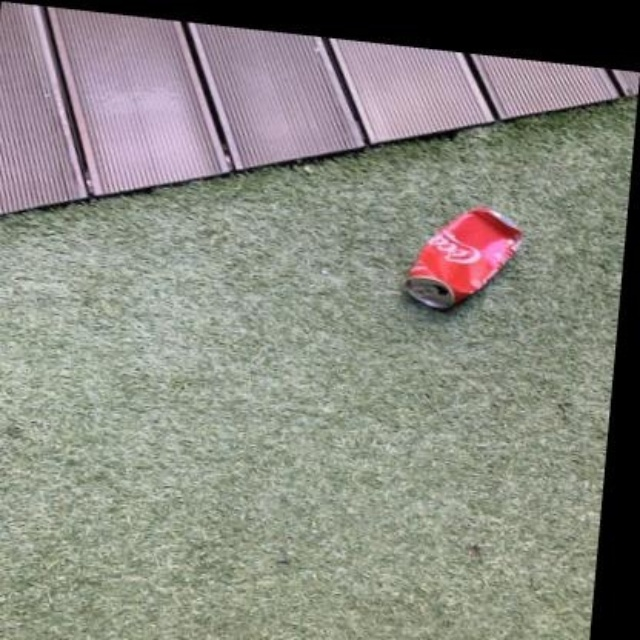trash: (403, 206, 522, 308)
